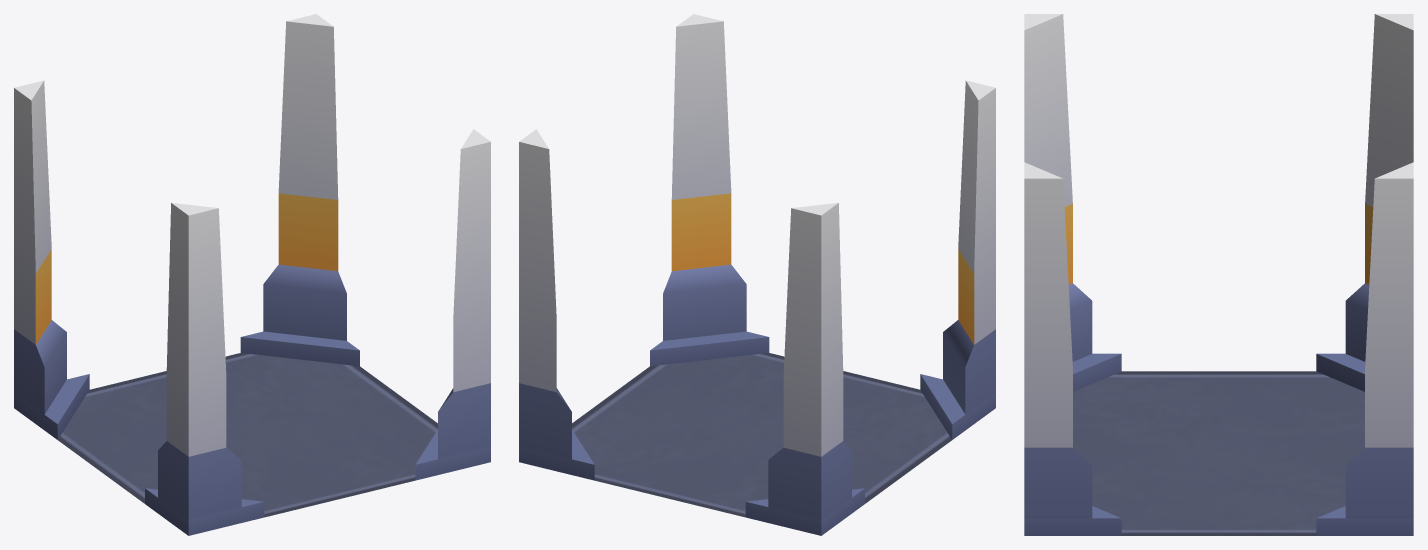
Rendered from kenney-space-corridor-intersection.glb.
The picture shows the model from 3 angles, left to right: view 1: azimuth 30°, elevation 25°; view 2: azimuth 150°, elevation 25°; view 3: azimuth 270°, elevation 25°; orthographic projection. The views are drawn at different scales.
Visible parts, largest first — view 1: corridor-intersection; view 2: corridor-intersection; view 3: corridor-intersection.
Boxes of the visible parts, x1,y1,x2,y2 form: corridor-intersection: (14,14,490,535); corridor-intersection: (519,14,995,535); corridor-intersection: (1024,14,1413,535).
Bounding box in the file's own units: 3 × 3.04 × 3.
1 material, 1 textured.
